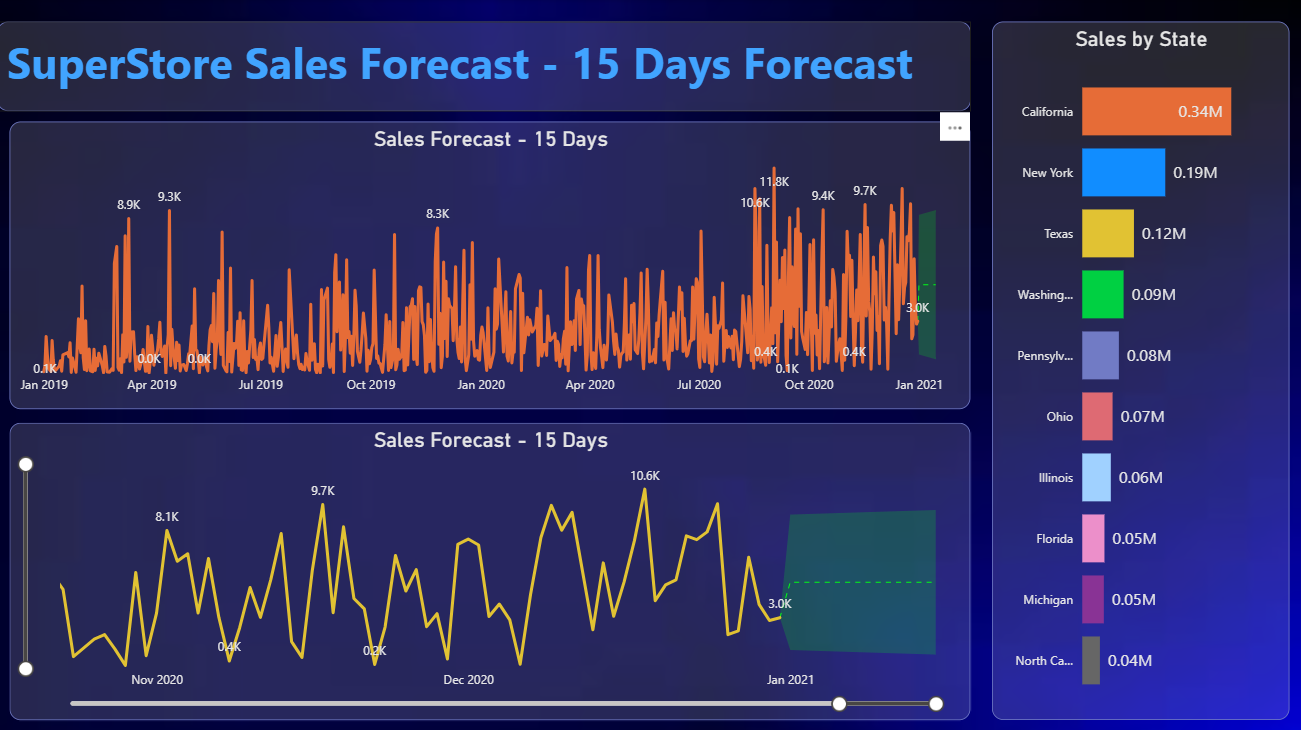

What the dashboard file says about the page in this screenshot:
{"tool":"powerbi","page":{"name":"Forecast","canvas":[1280,720],"ordinal":1},"visuals":[{"type":"lineChart","title":"Sales Forecast - 15 Days","fields":{"Y":["Sum(SuperStore_Sales_Dataset.Sales)"],"Category":["SuperStore_Sales_Dataset.Order Date"]},"box":[12.3,416,943.6,292],"z":0},{"type":"lineChart","title":"Sales Forecast - 15 Days","fields":{"Y":["Sum(SuperStore_Sales_Dataset.Sales)"],"Category":["SuperStore_Sales_Dataset.Order Date"]},"box":[12.3,120.2,943.6,282.2],"z":1000},{"type":"clusteredBarChart","title":"Sales by State","fields":{"Y":["Sum(SuperStore_Sales_Dataset.Sales)"],"Category":["SuperStore_Sales_Dataset.State"]},"box":[976.7,22.1,292,685.9],"z":2000},{"type":"textbox","box":[0,22.1,955.8,88.3],"z":3000}]}

Visuals, with their boxes in screenshot pixels (x1, y1, x2, y2), scaled from the page's 1280x720 canvas onto the 1301x730 screenshot:
"Sales Forecast - 15 Days" lineChart: <box>13,422,972,718</box>
"Sales Forecast - 15 Days" lineChart: <box>13,122,972,408</box>
"Sales by State" clusteredBarChart: <box>993,22,1290,718</box>
textbox: <box>0,22,971,112</box>
